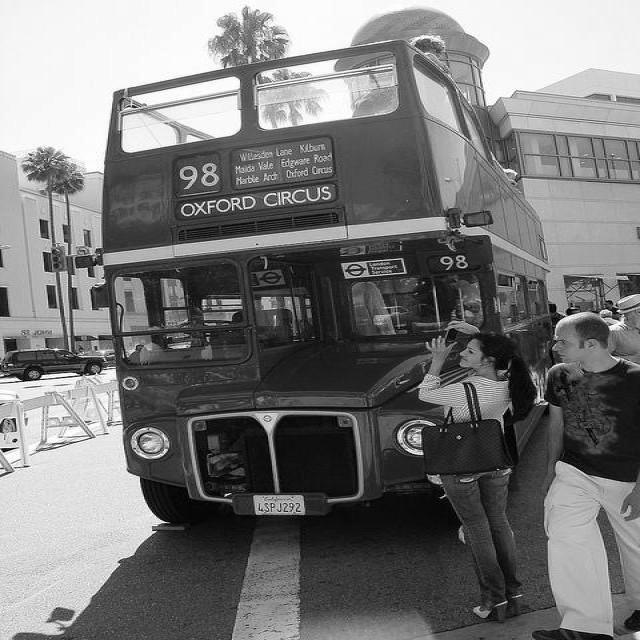vehicle: (105, 40, 559, 549), (7, 349, 107, 383), (84, 349, 117, 367)
